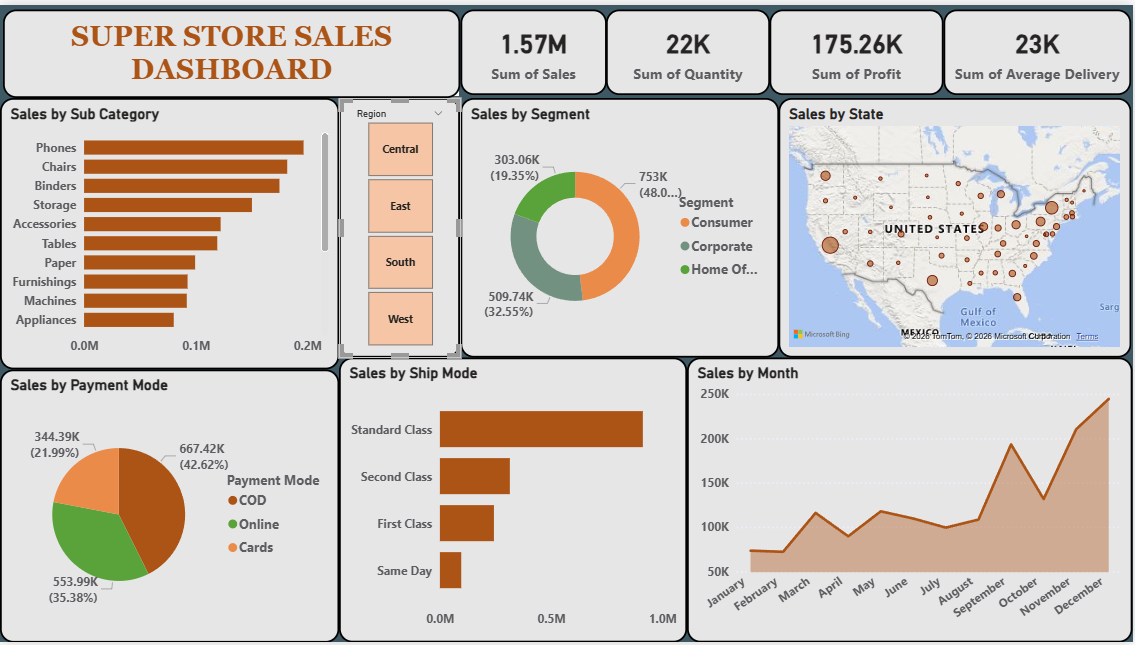

Layout of this report page (visuals, bound fields, positions):
{"tool":"powerbi","page":{"name":"Page 1","canvas":[1280,720],"ordinal":0},"visuals":[{"type":"clusteredBarChart","title":"Sales by Sub Category","fields":{"Y":["Sum(Sheet1.Sales)"],"Category":["Sheet1.Sub-Category"]},"box":[0,105,383.3,306.7],"z":0},{"type":"clusteredBarChart","title":"Sales by Ship Mode","fields":{"Y":["Sum(Sheet1.Sales)"],"Category":["Sheet1.Ship Mode"]},"box":[383.3,398.3,393.3,321.7],"z":1000},{"type":"stackedAreaChart","title":"Sales by Month","fields":{"Category":["Sheet1.Order Date.Variation.Date Hierarchy.Month","Sheet1.Order Date.Variation.Date Hierarchy.Day"],"Y":["Sum(Sheet1.Sales)"]},"box":[776.7,398.3,503.3,321.7],"z":2000},{"type":"map","title":"Sales by State","fields":{"Category":["Sheet1.State"],"Size":["Sum(Sheet1.Sales)"]},"box":[880,105,398.3,293.3],"z":3000},{"type":"donutChart","title":"Sales by Segment","fields":{"Category":["Sheet1.Segment"],"Y":["Sum(Sheet1.Sales)"]},"box":[520,105,360,293.3],"z":4000},{"type":"pieChart","title":"Sales by Payment Mode","fields":{"Category":["Sheet1.Payment Mode"],"Y":["Sum(Sheet1.Sales)"]},"box":[0,411.7,383.3,308.3],"z":5000},{"type":"slicer","fields":{"Values":["Sheet1.Region"]},"box":[383.3,105,136.7,293.3],"z":6000},{"type":"textbox","box":[3.3,5,516.7,100],"z":7000},{"type":"card","fields":{"Values":["Sum(Sheet1.Sales)"]},"box":[520,5,165,96.7],"z":8000},{"type":"card","fields":{"Values":["Sum(Sheet1.Quantity)"]},"box":[685,5,185,96.7],"z":9000},{"type":"card","fields":{"Values":["Sum(Sheet1.Profit)"]},"box":[870,5,196.7,96.7],"z":10000},{"type":"card","fields":{"Values":["Sum(Sheet1.Average Delivery)"]},"box":[1066.7,5,211.7,96.7],"z":11000}]}

Visuals, with their boxes in screenshot pixels (x1, y1, x2, y2), scaled from the page's 1280x720 canvas onto the 1135x645 screenshot:
"Sales by Sub Category" clusteredBarChart: <bbox>0, 94, 340, 369</bbox>
"Sales by Ship Mode" clusteredBarChart: <bbox>340, 357, 689, 644</bbox>
"Sales by Month" stackedAreaChart: <bbox>689, 357, 1134, 644</bbox>
"Sales by State" map: <bbox>780, 94, 1133, 357</bbox>
"Sales by Segment" donutChart: <bbox>461, 94, 780, 357</bbox>
"Sales by Payment Mode" pieChart: <bbox>0, 369, 340, 644</bbox>
slicer - Sheet1.Region: <bbox>340, 94, 461, 357</bbox>
textbox: <bbox>3, 4, 461, 94</bbox>
card - Sum(Sheet1.Sales): <bbox>461, 4, 607, 91</bbox>
card - Sum(Sheet1.Quantity): <bbox>607, 4, 771, 91</bbox>
card - Sum(Sheet1.Profit): <bbox>771, 4, 946, 91</bbox>
card - Sum(Sheet1.Average Delivery): <bbox>946, 4, 1134, 91</bbox>
